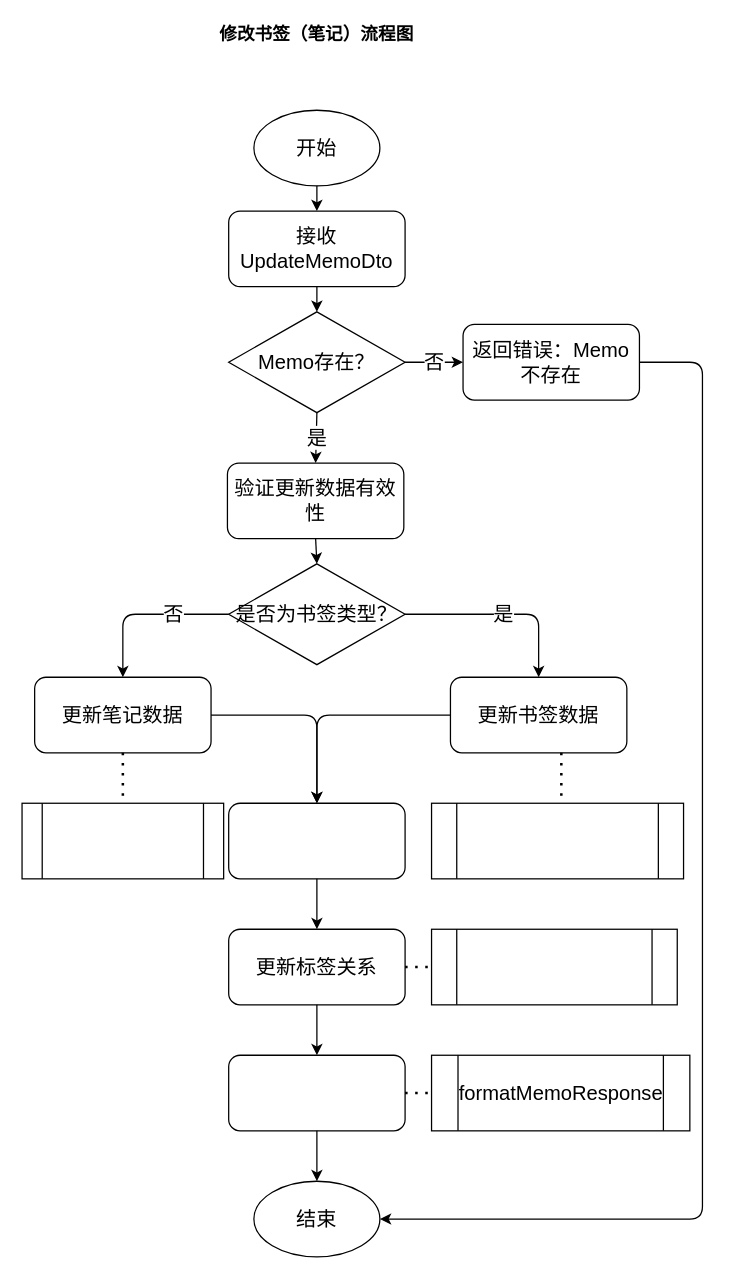
This 735x1279 diagram has some shape labels left out. The shapes that lost their labels are listed below. From the top down, each one's box as (x1, y1, x2, y2) in pixels, then its label:
(21, 802, 224, 879): updateNoteData
(227, 802, 405, 879): 执行数据库更新
(430, 802, 684, 879): updateBookmarkData
(430, 928, 677, 1005): updateTagRelations
(227, 1054, 405, 1131): 返回更新后的Memo对象
